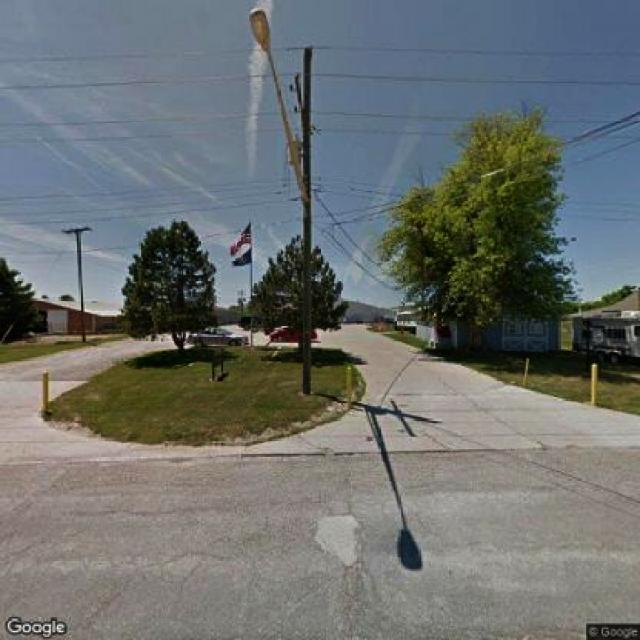pole: (300, 48, 315, 395)
wire: (322, 108, 640, 228), (0, 70, 640, 91), (0, 46, 640, 65), (0, 125, 640, 143), (1, 109, 640, 127)
